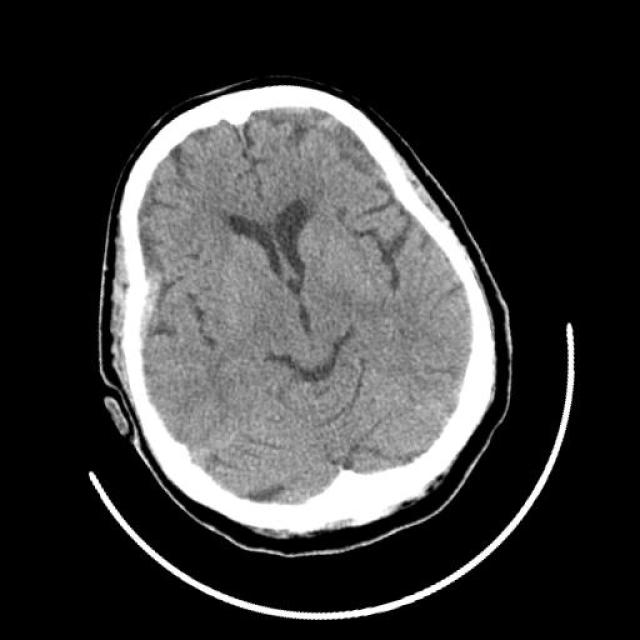Subdural: (91, 259, 190, 350)
